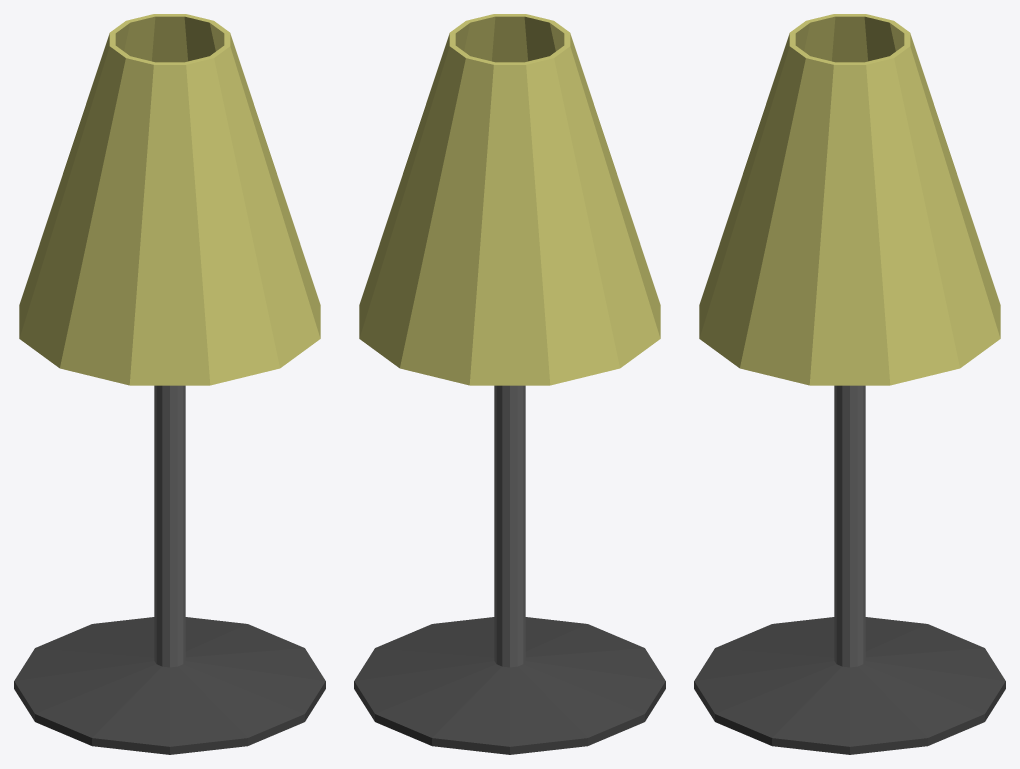
File: Desk Lamp.fbx
3 views of the same model, side by side, from view 1: azimuth 30°, elevation 25°; view 2: azimuth 150°, elevation 25°; view 3: azimuth 270°, elevation 25° (orthographic).
Parts seen in each view (by area): view 1: Desk Lamp; view 2: Desk Lamp; view 3: Desk Lamp.
Boxes of the visible parts, bbox=[...] form: Desk Lamp: bbox=[14, 14, 325, 754]; Desk Lamp: bbox=[354, 14, 665, 754]; Desk Lamp: bbox=[694, 14, 1005, 754].
Bounding box in the file's own units: 2 × 4.6 × 2.
